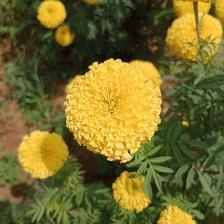marigold: (62, 58, 168, 164)
